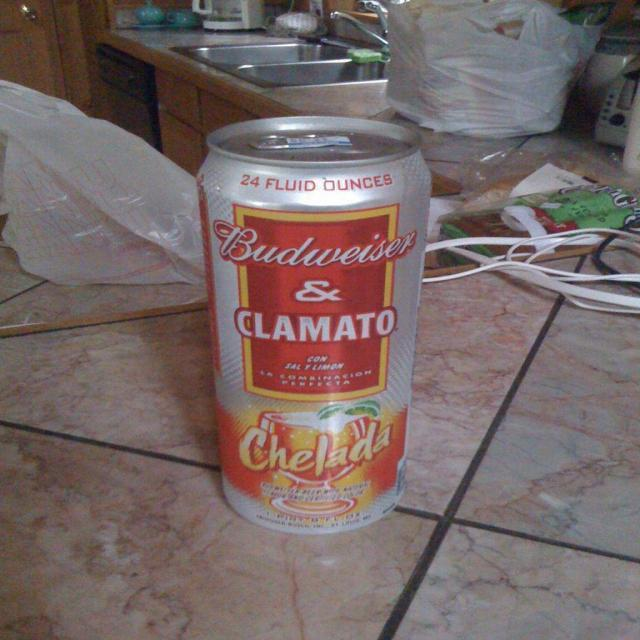metal-can: (192, 113, 436, 538)
